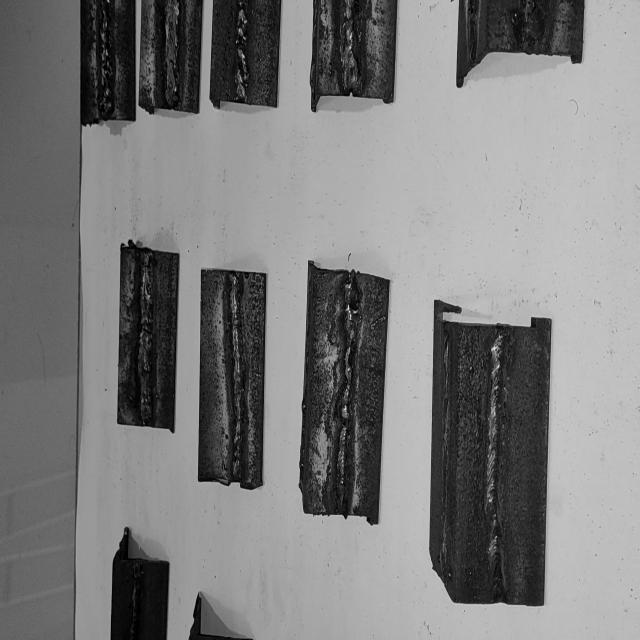Defect: (100, 0, 114, 115), (519, 0, 550, 50), (235, 0, 249, 101)
Welding Line: (332, 276, 360, 512), (486, 332, 508, 597), (227, 273, 244, 478), (136, 249, 154, 423), (100, 0, 114, 115), (165, 0, 179, 103), (234, 0, 248, 98), (342, 0, 354, 89)
Workpiece: (426, 296, 560, 608), (296, 260, 396, 524), (195, 262, 266, 496), (115, 240, 181, 435), (453, 0, 588, 92), (309, 0, 398, 113), (136, 0, 204, 120), (208, 0, 282, 110), (79, 0, 138, 126)
